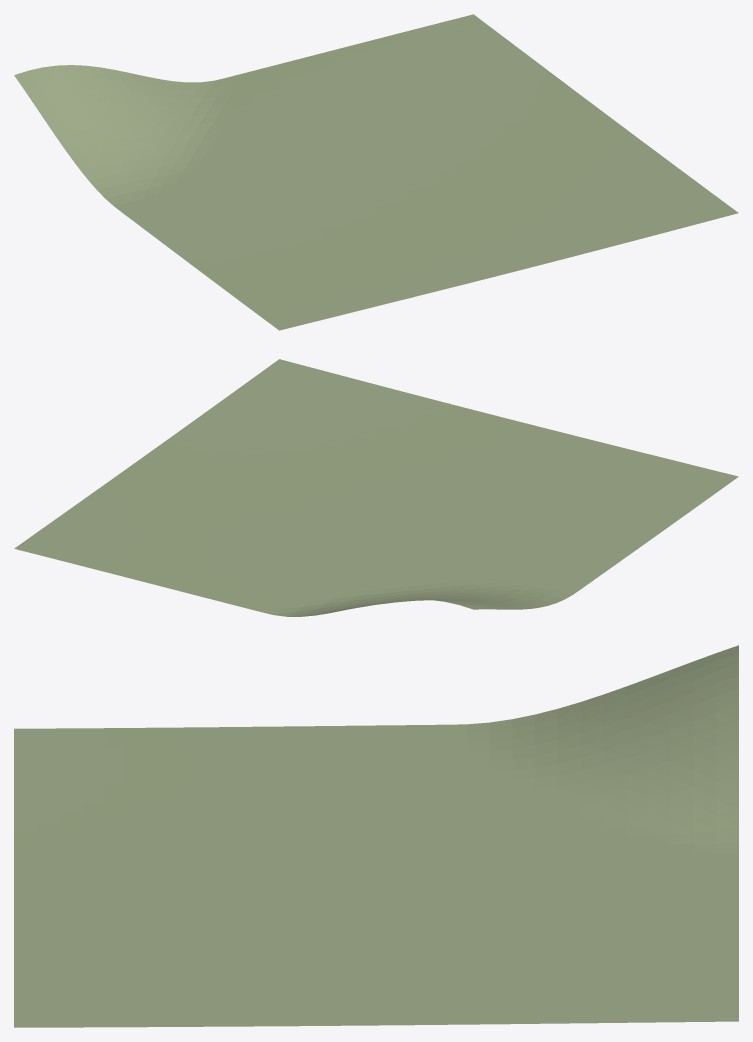
The model's file is desert-22-29.glb.
The picture shows the model from 3 angles, top to bottom: view 1: azimuth 30°, elevation 25°; view 2: azimuth 150°, elevation 25°; view 3: azimuth 270°, elevation 25°; orthographic projection. The views are drawn at different scales.
Parts seen in each view (by area): view 1: desert-22-29; view 2: desert-22-29; view 3: desert-22-29.
Boxes of the visible parts, left/top/right/bottom form: desert-22-29: left=14, top=14, right=738, bottom=330; desert-22-29: left=14, top=359, right=738, bottom=616; desert-22-29: left=14, top=645, right=738, bottom=1027.
Bounding box in the file's own units: 512 × 66.29 × 512.
